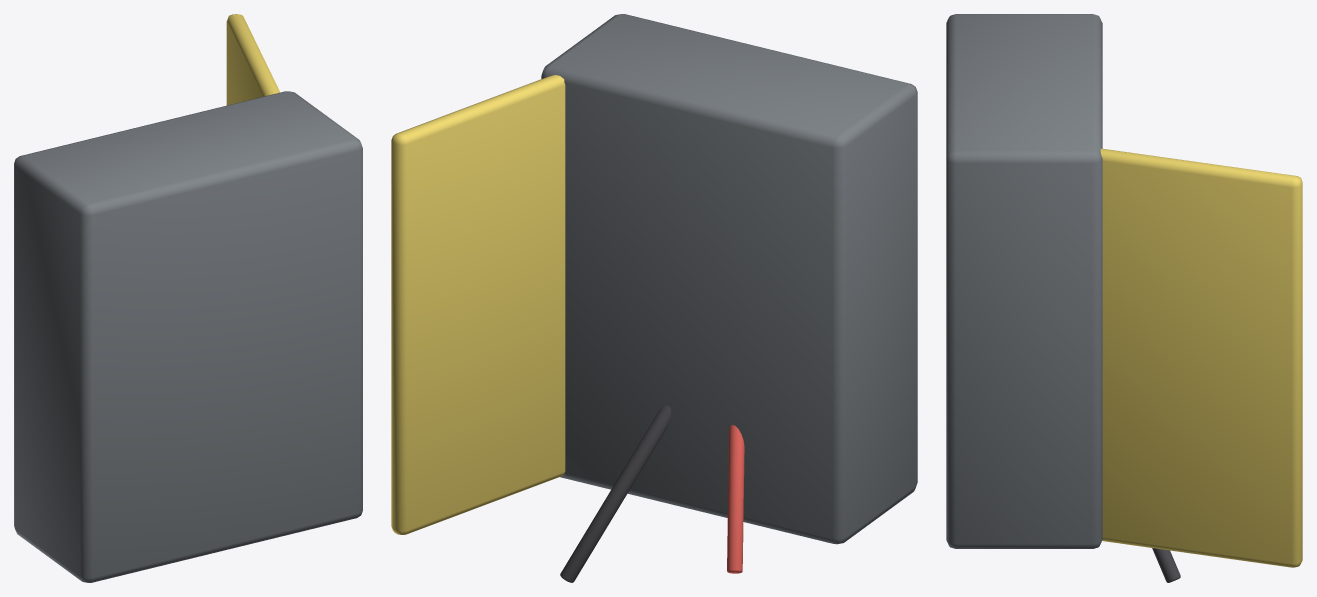
Rendered from sparking_fuse_box.glb.
The picture shows the model from 3 angles, left to right: view 1: azimuth 30°, elevation 25°; view 2: azimuth 150°, elevation 25°; view 3: azimuth 270°, elevation 25°; orthographic projection. The views are drawn at different scales.
Visible parts, largest first — view 1: SparkingFuseBox; view 2: SparkingFuseBox; view 3: SparkingFuseBox.
Boxes of the visible parts, left/top/right/bottom form: SparkingFuseBox: left=14, top=14, right=362, bottom=582; SparkingFuseBox: left=391, top=14, right=917, bottom=582; SparkingFuseBox: left=946, top=14, right=1302, bottom=582.
Size of the model in its own units: 0.8067 by 1.04 by 0.73.
